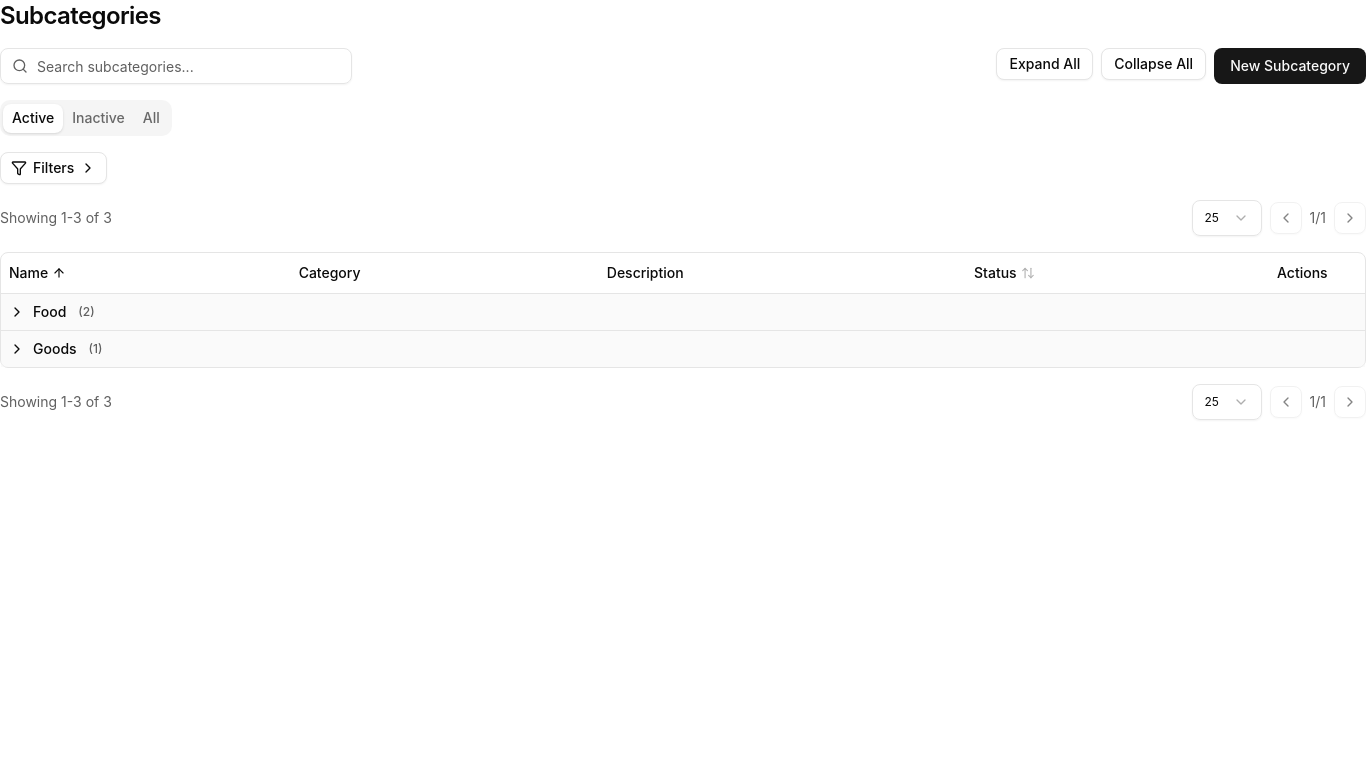
Test: Subcategories › opens create dialog when New Subcategory button is clicked
What coordinates should you click on to do the following:
click the button "New Subcategory"
I would click on:
 (1290, 66)
Its box is [1214,48,1365,84].
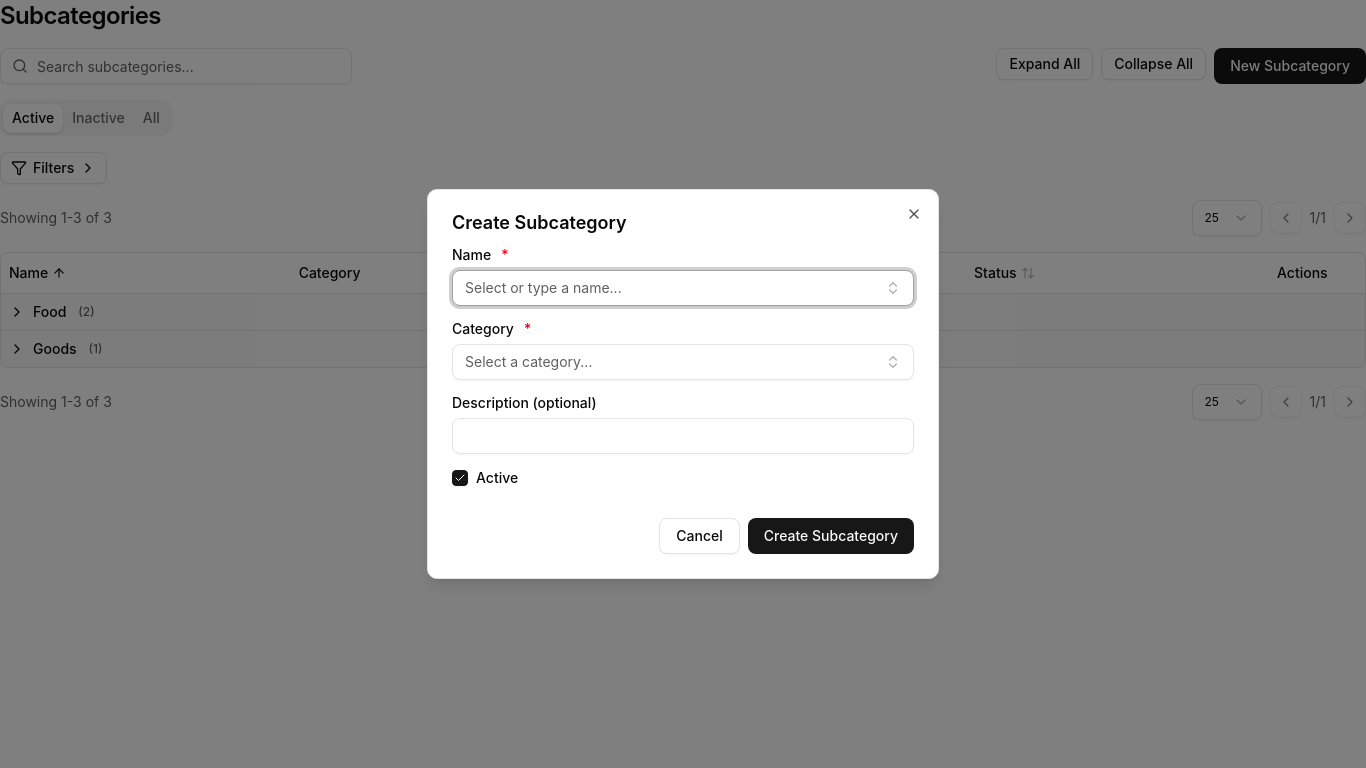
expect the heading "Create Subcategory" is shown: met, box [452,212,626,233]
